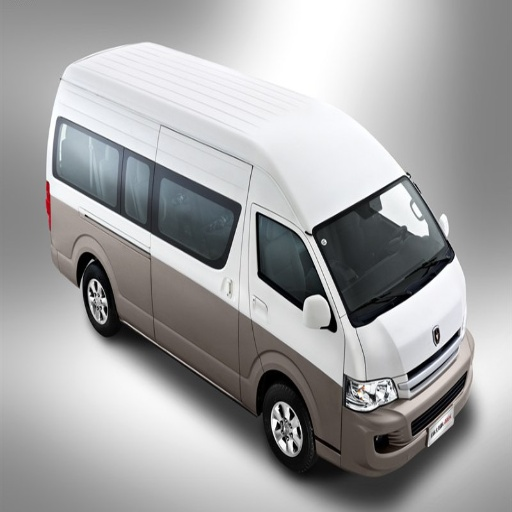front_bumper: (315, 355, 469, 475)
front_right_door: (157, 166, 339, 394)
front_right_light: (345, 379, 396, 411)
